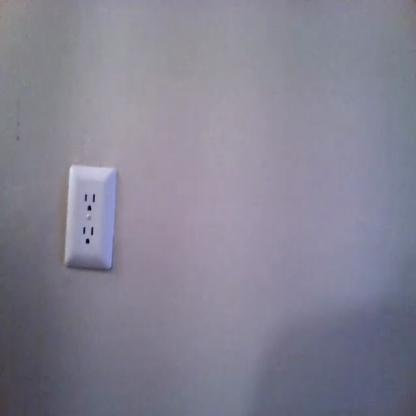OUTLET: (65, 165, 116, 271)
